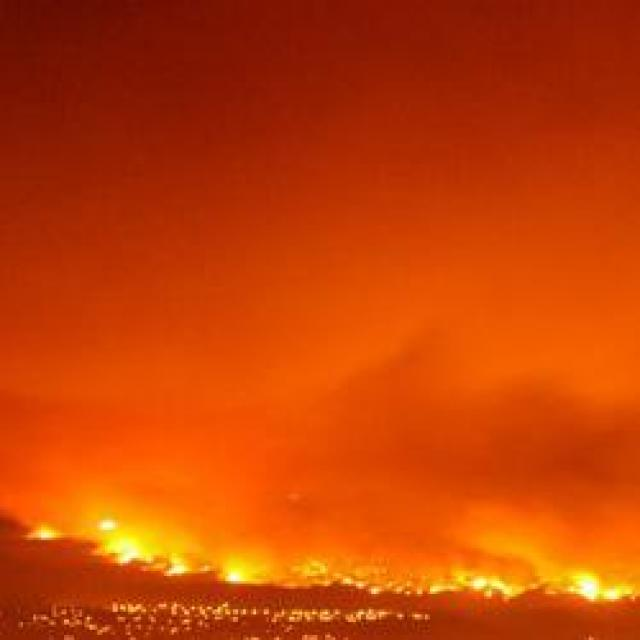fire: (100, 515, 148, 567), (566, 568, 630, 606), (450, 574, 518, 601), (226, 568, 243, 590)
smoke: (454, 361, 640, 528), (296, 355, 468, 502)
